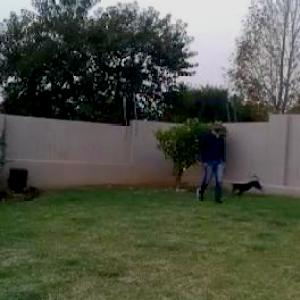follow: (199, 112, 227, 208)
